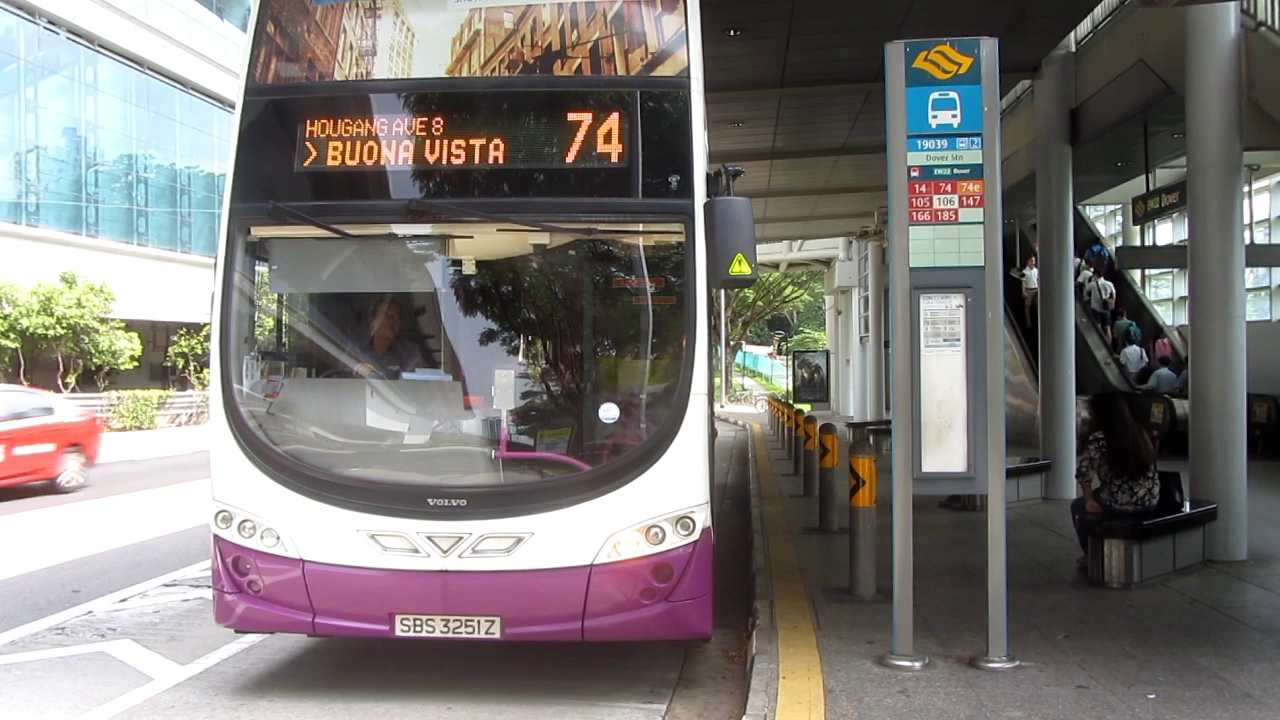bus panel: (292, 108, 632, 174)
